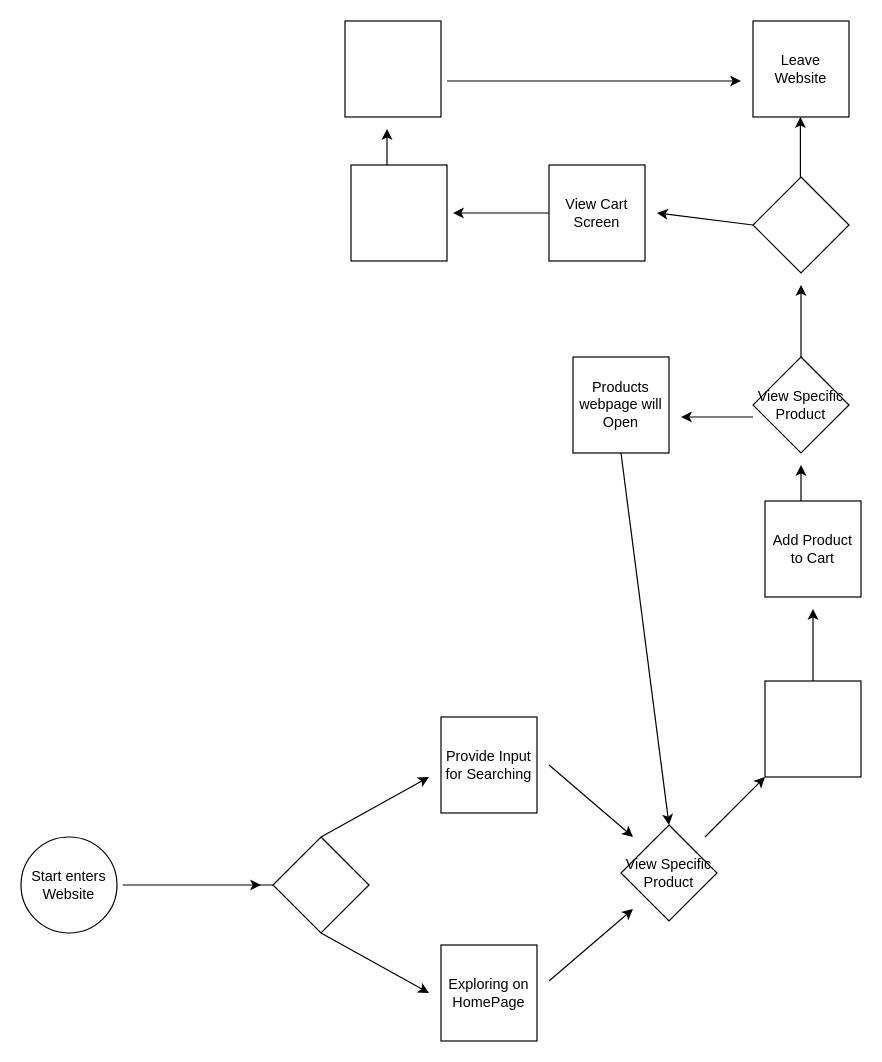
This 882x1062 diagram has some shape labels left out. Each missing label, with the box of its shape:
Add Product to Cart Confirmation: (764, 680, 861, 777)
Checkout: (752, 176, 849, 273)
Order Confirmation and Email Sent: (344, 20, 441, 117)
Search Or Explore: (272, 836, 369, 933)
View Payment Screen: (350, 164, 447, 261)
